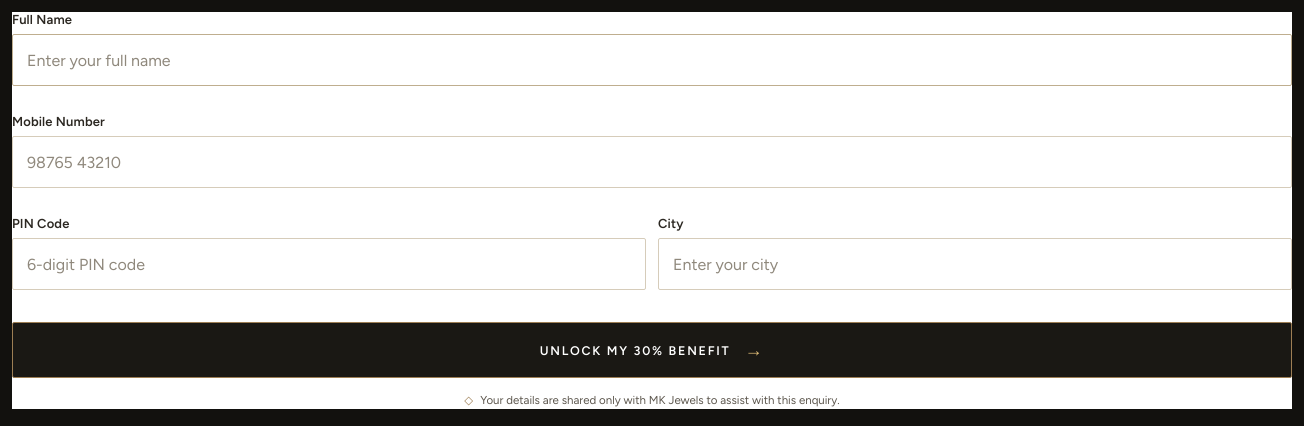
Test: LeadForm › shows inline errors without submitting invalid fields
The image size is (1304, 426).
Click the button "Unlock My 30% Benefit →" at coordinates (652, 350), box 12,322 -> 1292,378
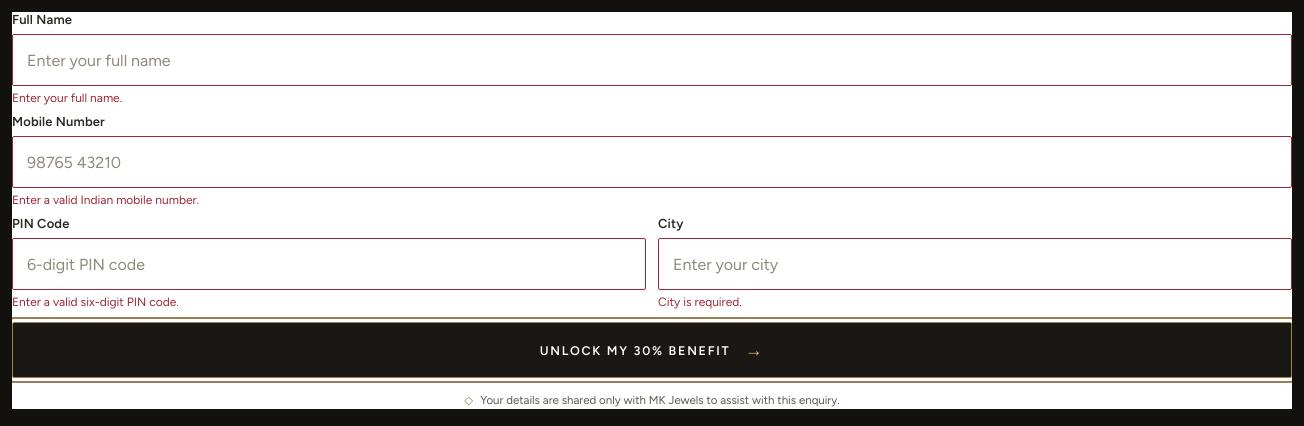
Expected: the text "Enter your full name." is shown, 12,91 -> 122,105
